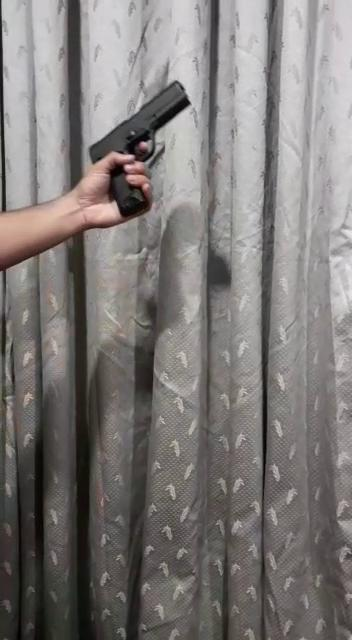weapon: (85, 77, 196, 224)
